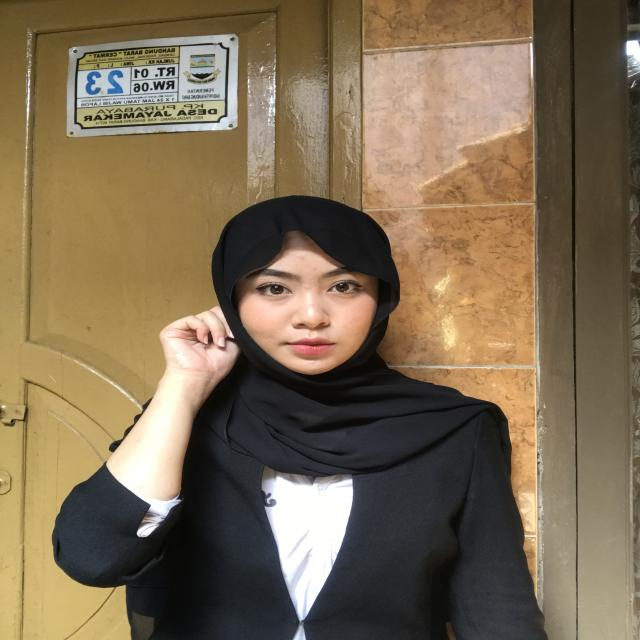ibu: (94, 290, 273, 421)
